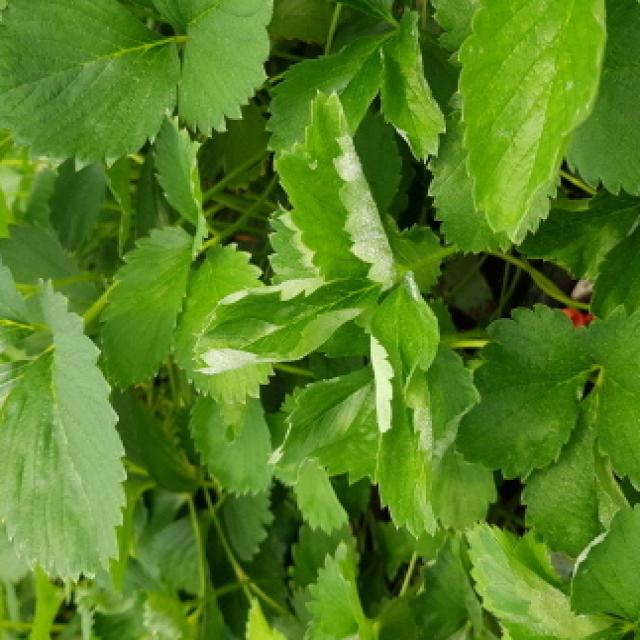Powdery Mildew Leaf: (455, 0, 606, 245), (275, 88, 400, 286), (192, 277, 383, 375), (369, 268, 443, 431), (268, 360, 376, 468), (402, 346, 482, 470), (568, 505, 640, 623)
